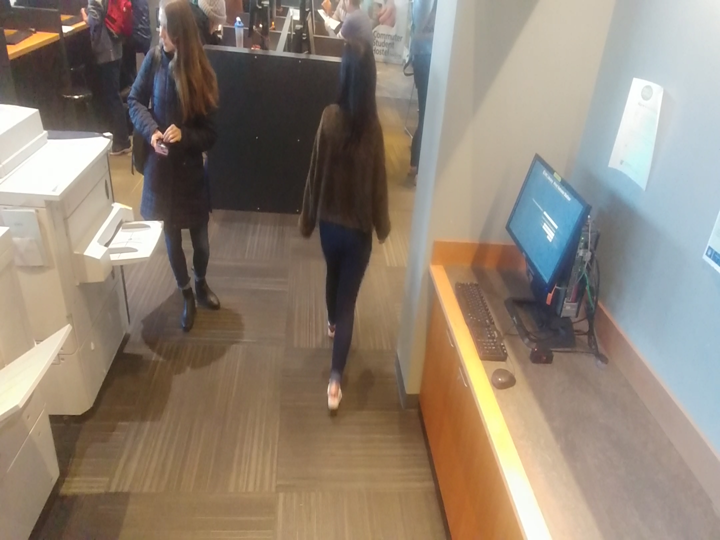face: (323, 33, 388, 125), (147, 0, 212, 69)
human: (292, 33, 399, 427), (122, 0, 233, 336), (79, 0, 143, 161), (329, 0, 380, 47)
